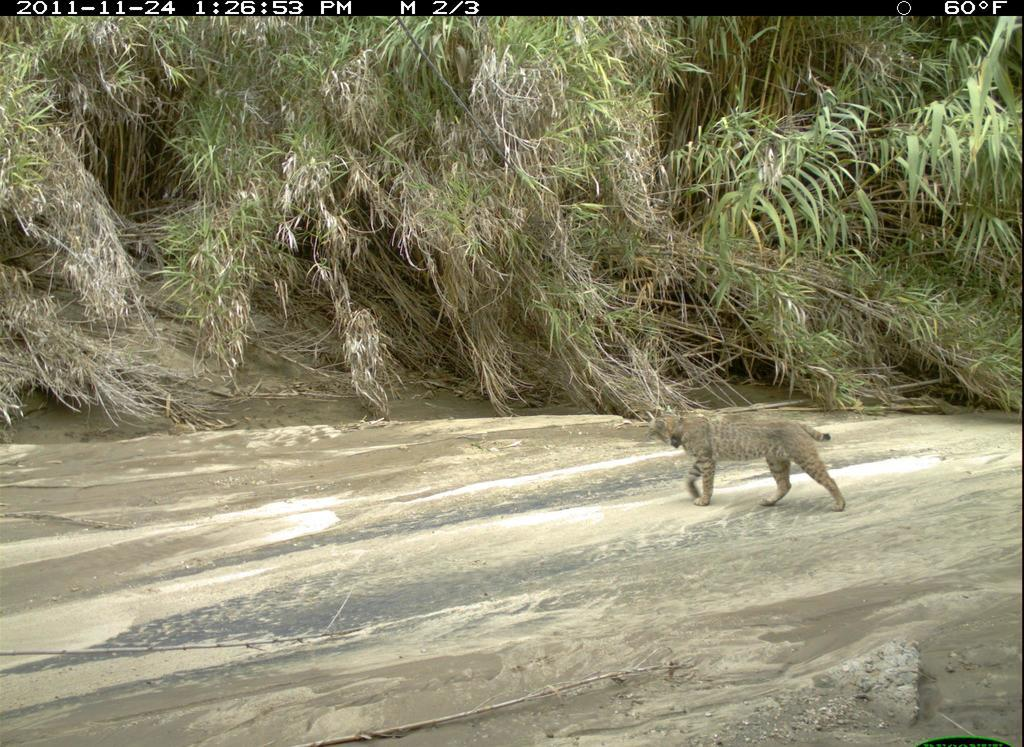bobcat: (637, 400, 852, 516)
